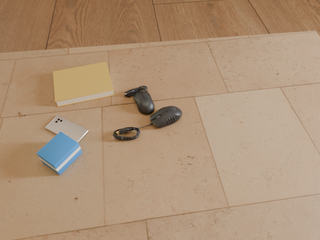book: (53, 62, 114, 107)
box: (37, 132, 82, 175)
mouse: (124, 86, 154, 114), (149, 106, 182, 128)
phone: (45, 115, 89, 143)
